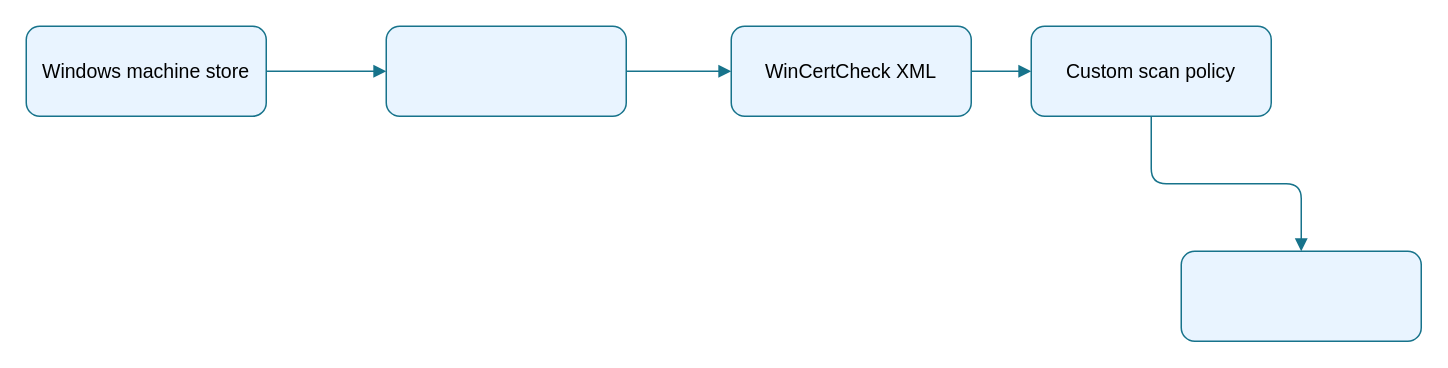
The diagram is 1448 pixels wide and 368 high, and some of its shapes have lost their labels. The box of each missing label's shape, as (x1, y1, x2, y2) in pixels:
Compliance verdict: (1180, 250, 1421, 341)
Persistent Agent: (385, 25, 626, 116)
